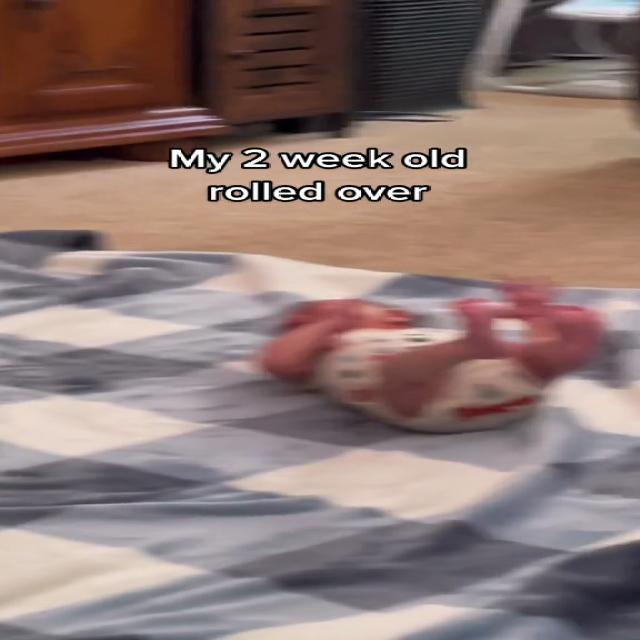baby: (252, 272, 606, 432)
